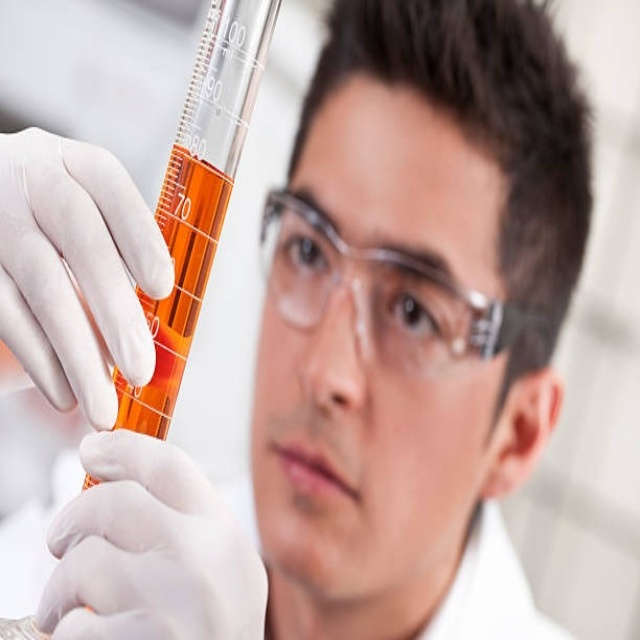Gafas: (259, 189, 544, 379)
Guantes: (5, 121, 175, 427), (29, 427, 271, 632)
Sin_mascara: (261, 409, 376, 560)
